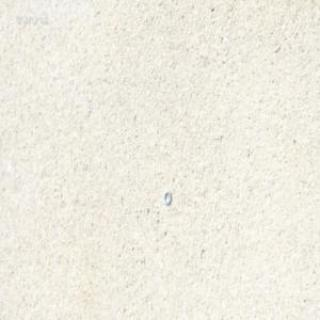Washertrack_idkeyframe: (162, 189, 170, 205)
